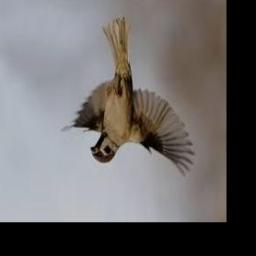Sparrow: (61, 17, 194, 178)
